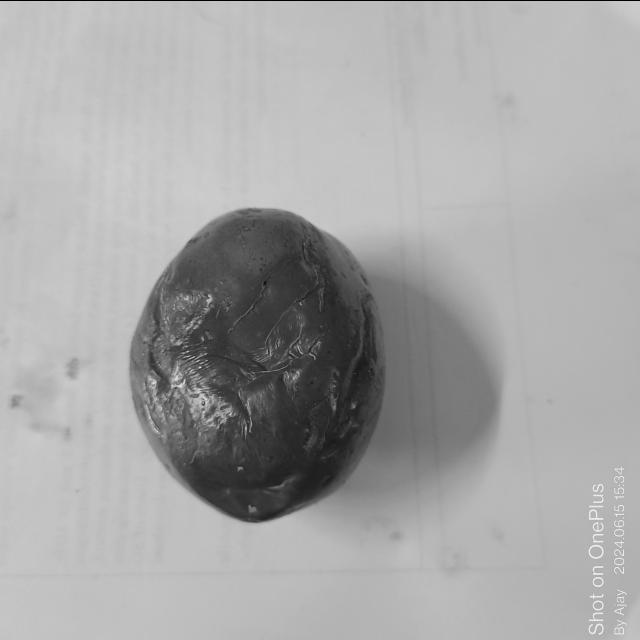Botrytis: (202, 356, 276, 440), (296, 222, 332, 306), (180, 230, 210, 254)
